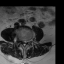CCS_normal: (23, 39, 25, 48)
LFS_normal: (27, 37, 29, 44)
LLS_stenosis: (25, 39, 27, 46)
RFS_severe_stenosis: (19, 37, 21, 43)
RLS_severe_stenosis: (21, 38, 23, 44)
